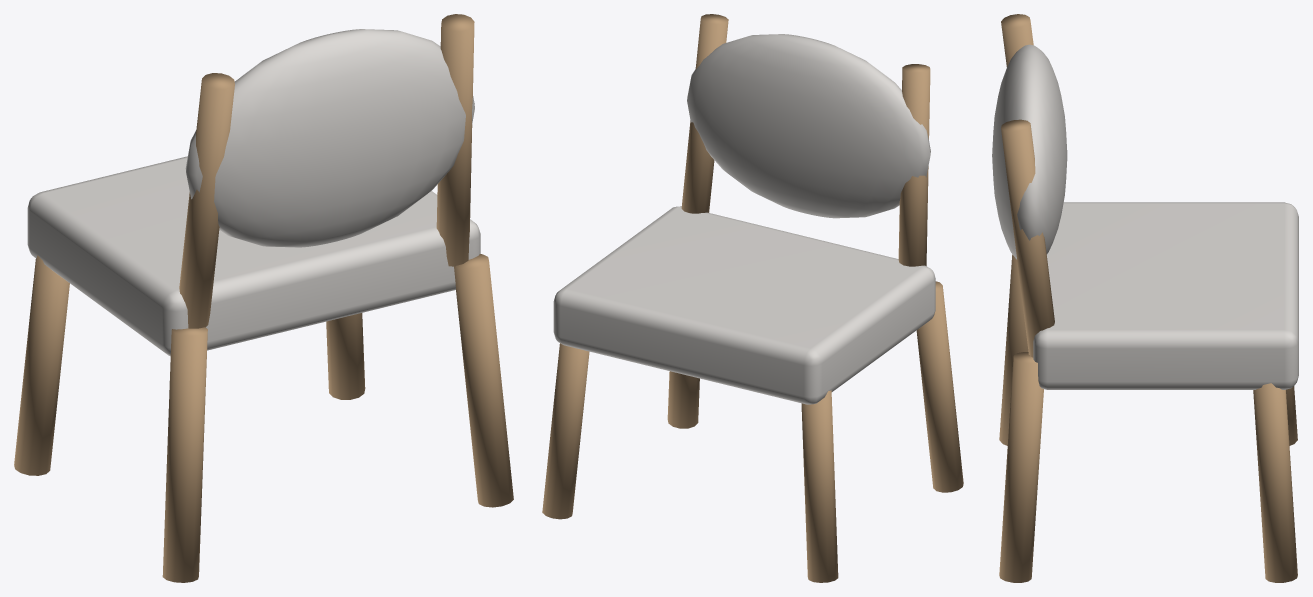
The model's file is cadeira-arco.glb.
3 renders of one model, left to right at view 1: azimuth 30°, elevation 25°; view 2: azimuth 150°, elevation 25°; view 3: azimuth 270°, elevation 25°, orthographic. The views are drawn at different scales.
Visible parts, largest first — view 1: Encosto envolvente, Assento moldado, Pé de madeira, Pé de madeira.002, Pé de madeira.001, Montante do encosto, Montante do encosto.001, Pé de madeira.003; view 2: Assento moldado, Encosto envolvente, Pé de madeira, Pé de madeira.001, Pé de madeira.003, Montante do encosto, Montante do encosto.001, Pé de madeira.002; view 3: Assento moldado, Encosto envolvente, Pé de madeira.002, Pé de madeira.003, Montante do encosto.001, Pé de madeira, Montante do encosto, Pé de madeira.001.
Part boxes in pixels (box(x1,y1,x2,y2)): Encosto envolvente: box(185, 29, 474, 247); Assento moldado: box(27, 156, 480, 356); Pé de madeira: box(162, 327, 207, 582); Pé de madeira.002: box(454, 254, 513, 507); Pé de madeira.001: box(14, 255, 69, 475); Montante do encosto: box(179, 73, 234, 328); Montante do encosto.001: box(436, 14, 474, 266); Pé de madeira.003: box(326, 313, 365, 399); Assento moldado: box(553, 206, 935, 404); Encosto envolvente: box(687, 34, 930, 218); Pé de madeira: box(916, 281, 963, 492); Pé de madeira.001: box(801, 390, 838, 582); Pé de madeira.003: box(542, 343, 589, 519); Montante do encosto: box(898, 64, 930, 266); Montante do encosto.001: box(681, 14, 728, 213); Pé de madeira.002: box(667, 371, 699, 428); Assento moldado: box(1033, 202, 1298, 389); Encosto envolvente: box(992, 44, 1067, 259); Pé de madeira.002: box(999, 352, 1043, 582); Pé de madeira.003: box(1253, 383, 1297, 582); Montante do encosto.001: box(1001, 119, 1054, 357); Pé de madeira: box(999, 254, 1028, 445); Montante do encosto: box(1001, 14, 1033, 66); Pé de madeira.001: box(1286, 386, 1297, 445).
Bounding box in the file's own units: 0.5221 × 0.7183 × 0.4477.
